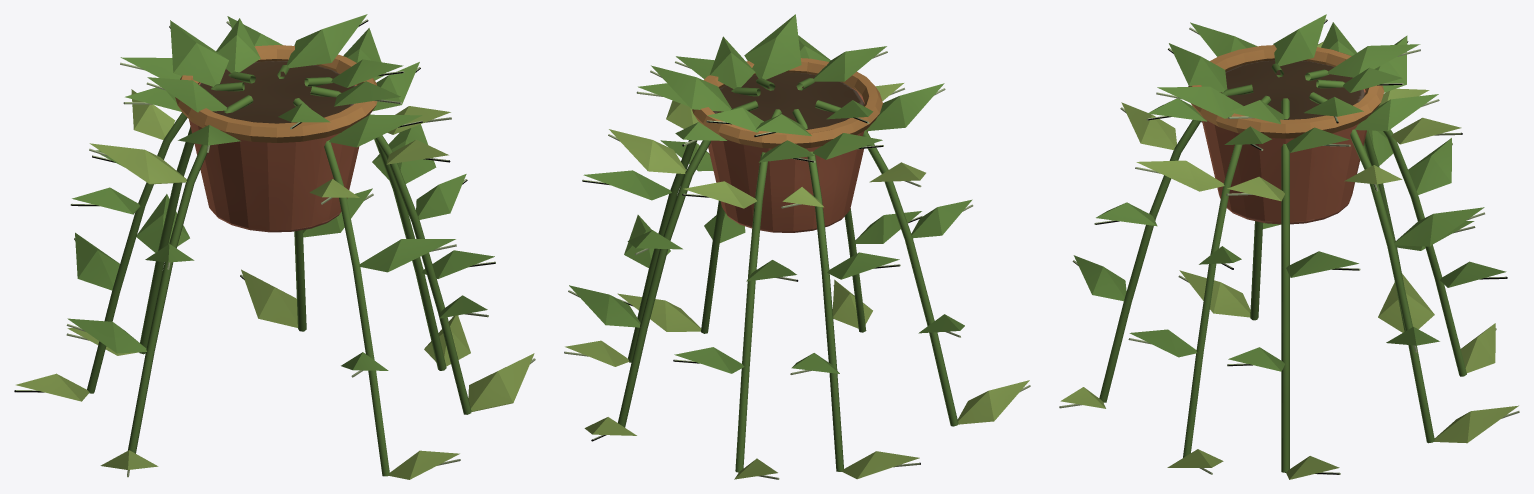
The model's file is 26_Piano_Plant.fbx.
The picture shows the model from 3 angles, left to right: view 1: azimuth 30°, elevation 25°; view 2: azimuth 150°, elevation 25°; view 3: azimuth 270°, elevation 25°; orthographic projection. The views are drawn at different scales.
Visible parts, largest first — view 1: 26_Piano_Plant; view 2: 26_Piano_Plant; view 3: 26_Piano_Plant.
Boxes of the visible parts, bbox=[...] form: 26_Piano_Plant: bbox=[14, 14, 535, 479]; 26_Piano_Plant: bbox=[564, 14, 1030, 479]; 26_Piano_Plant: bbox=[1059, 14, 1519, 479].
Bounding box in the file's own units: 82.2 × 64.37 × 80.24.
Materials: 1 (1 with a texture image).
